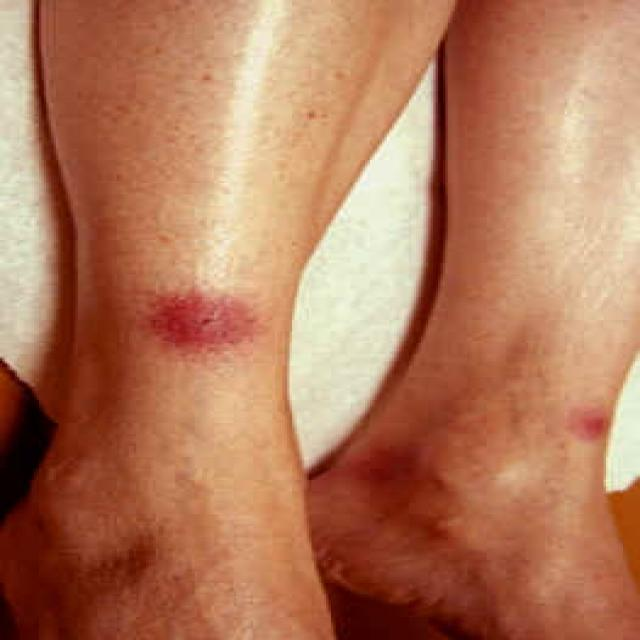Erythema nodosum: (46, 162, 342, 514)
